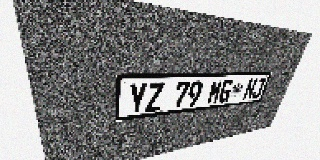7: (172, 81, 191, 109)
9: (186, 81, 204, 107)
G: (217, 79, 234, 103)
J: (251, 78, 266, 99)
M: (206, 80, 224, 105)
N: (242, 78, 258, 100)
Y: (128, 83, 147, 114)
Z: (145, 82, 165, 112)
